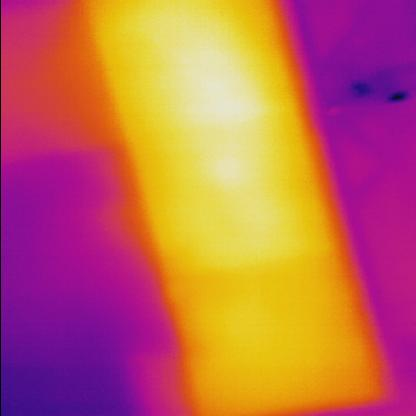hotspot: (117, 3, 297, 284)
